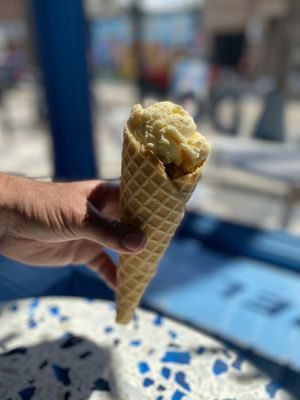pizza: (111, 102, 212, 329)
